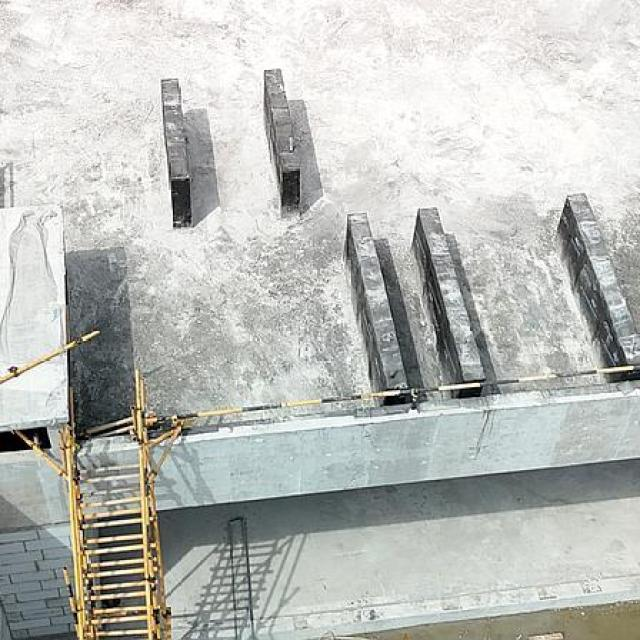edge_guardrail: (145, 363, 640, 426)
